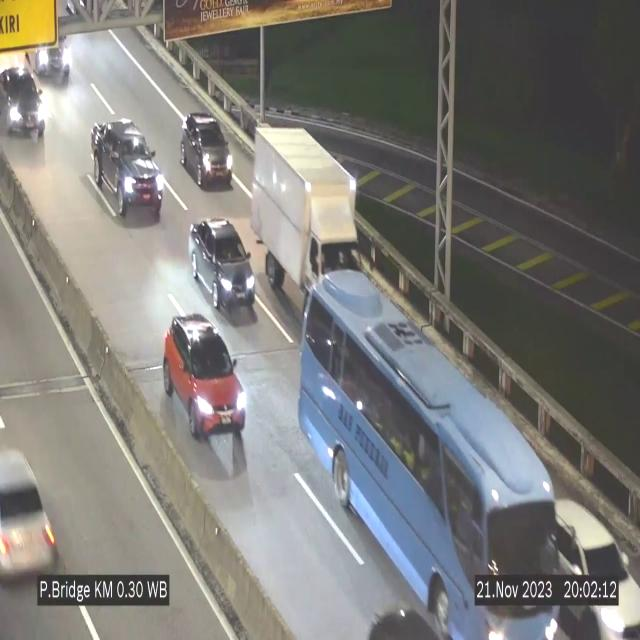Bus: (295, 266, 566, 640)
Car: (547, 485, 640, 639), (162, 311, 248, 443), (0, 428, 66, 584), (91, 120, 163, 221), (186, 211, 255, 314), (176, 103, 234, 195), (0, 67, 49, 143), (24, 24, 76, 87)
Truck: (248, 123, 367, 320)
